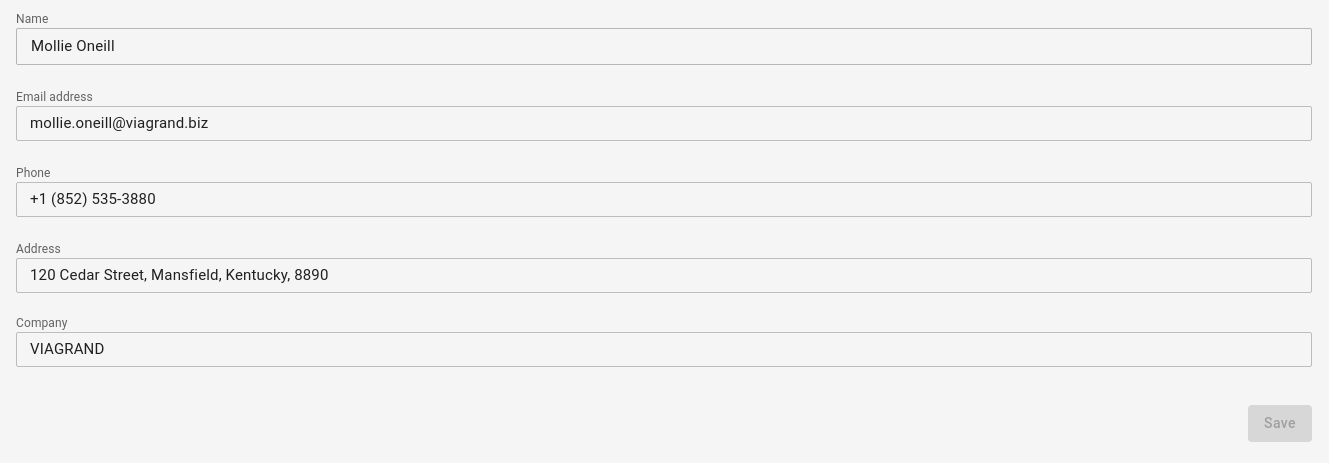
Test case: Form › should check if appropriate feedback is given when phone is not provided
Expected: the button with test id "save-btn" is disabled, [1248, 405, 1312, 442]
Clear the field with test id "phone-field" at point(664, 200), box [16, 182, 1312, 217]
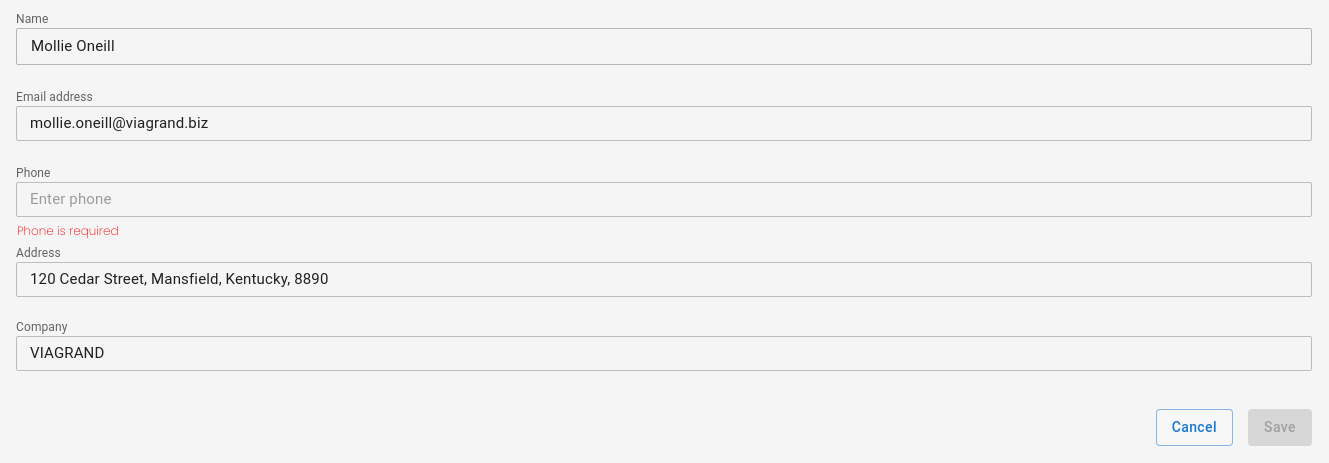
Expected: the button with test id "save-btn" is disabled, [1248, 409, 1312, 446]
Now the text with test id "phone-msg" reads "Phone is required", box [17, 222, 118, 239]
Now the button with test id "cancel-btn" is shown, box [1156, 409, 1233, 446]
